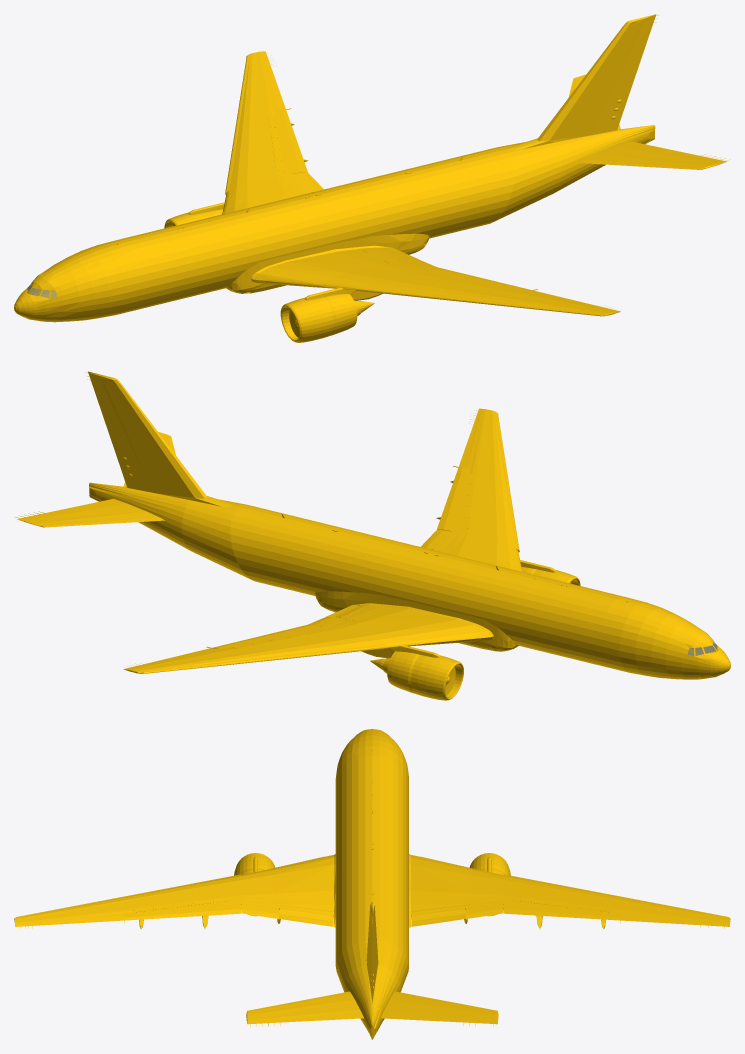
3 renders of one model, top to bottom at view 1: azimuth 30°, elevation 25°; view 2: azimuth 150°, elevation 25°; view 3: azimuth 270°, elevation 25°, orthographic.
Size of the model in its own units: 64.43 by 17.22 by 60.73.
